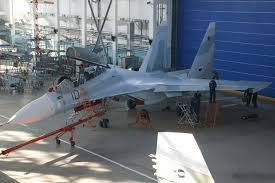maybay_muctieu: (20, 41, 263, 119)
